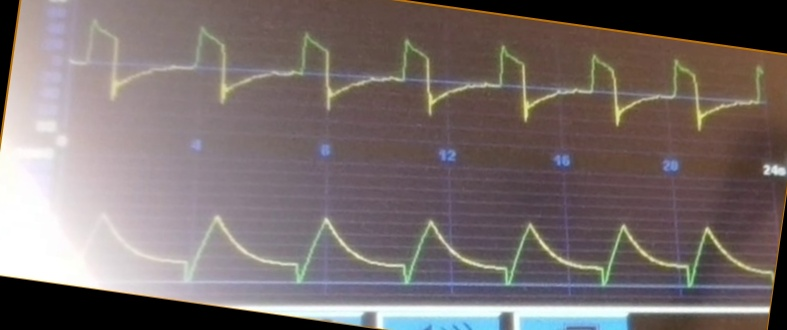Flow: (74, 19, 726, 132)
Leakage Volume: (85, 213, 770, 291)
